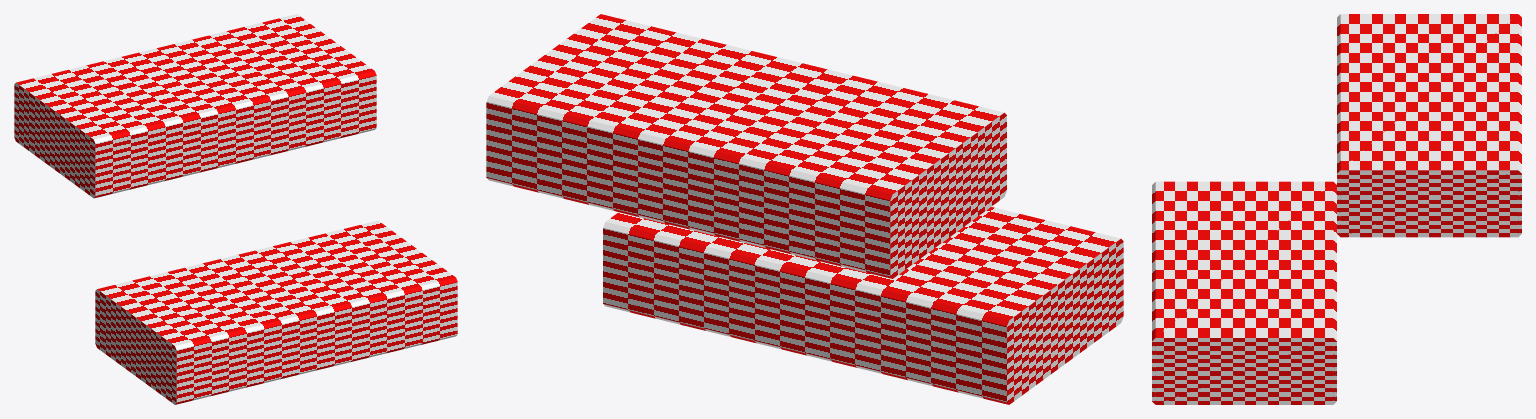
Rendered from stairsWood.dae.
3 renders of one model, left to right at view 1: azimuth 30°, elevation 25°; view 2: azimuth 150°, elevation 25°; view 3: azimuth 270°, elevation 25°, orthographic. The views are drawn at different scales.
Parts seen in each view (by area): view 1: Cube; view 2: Cube; view 3: Cube.
Boxes of the visible parts, <box> form: Cube: <box>14,14,457,404</box>; Cube: <box>486,14,1123,404</box>; Cube: <box>1152,14,1521,404</box>.
Bounding box in the file's own units: 1 × 1 × 0.7.
Materials: 1 (1 with a texture image).
